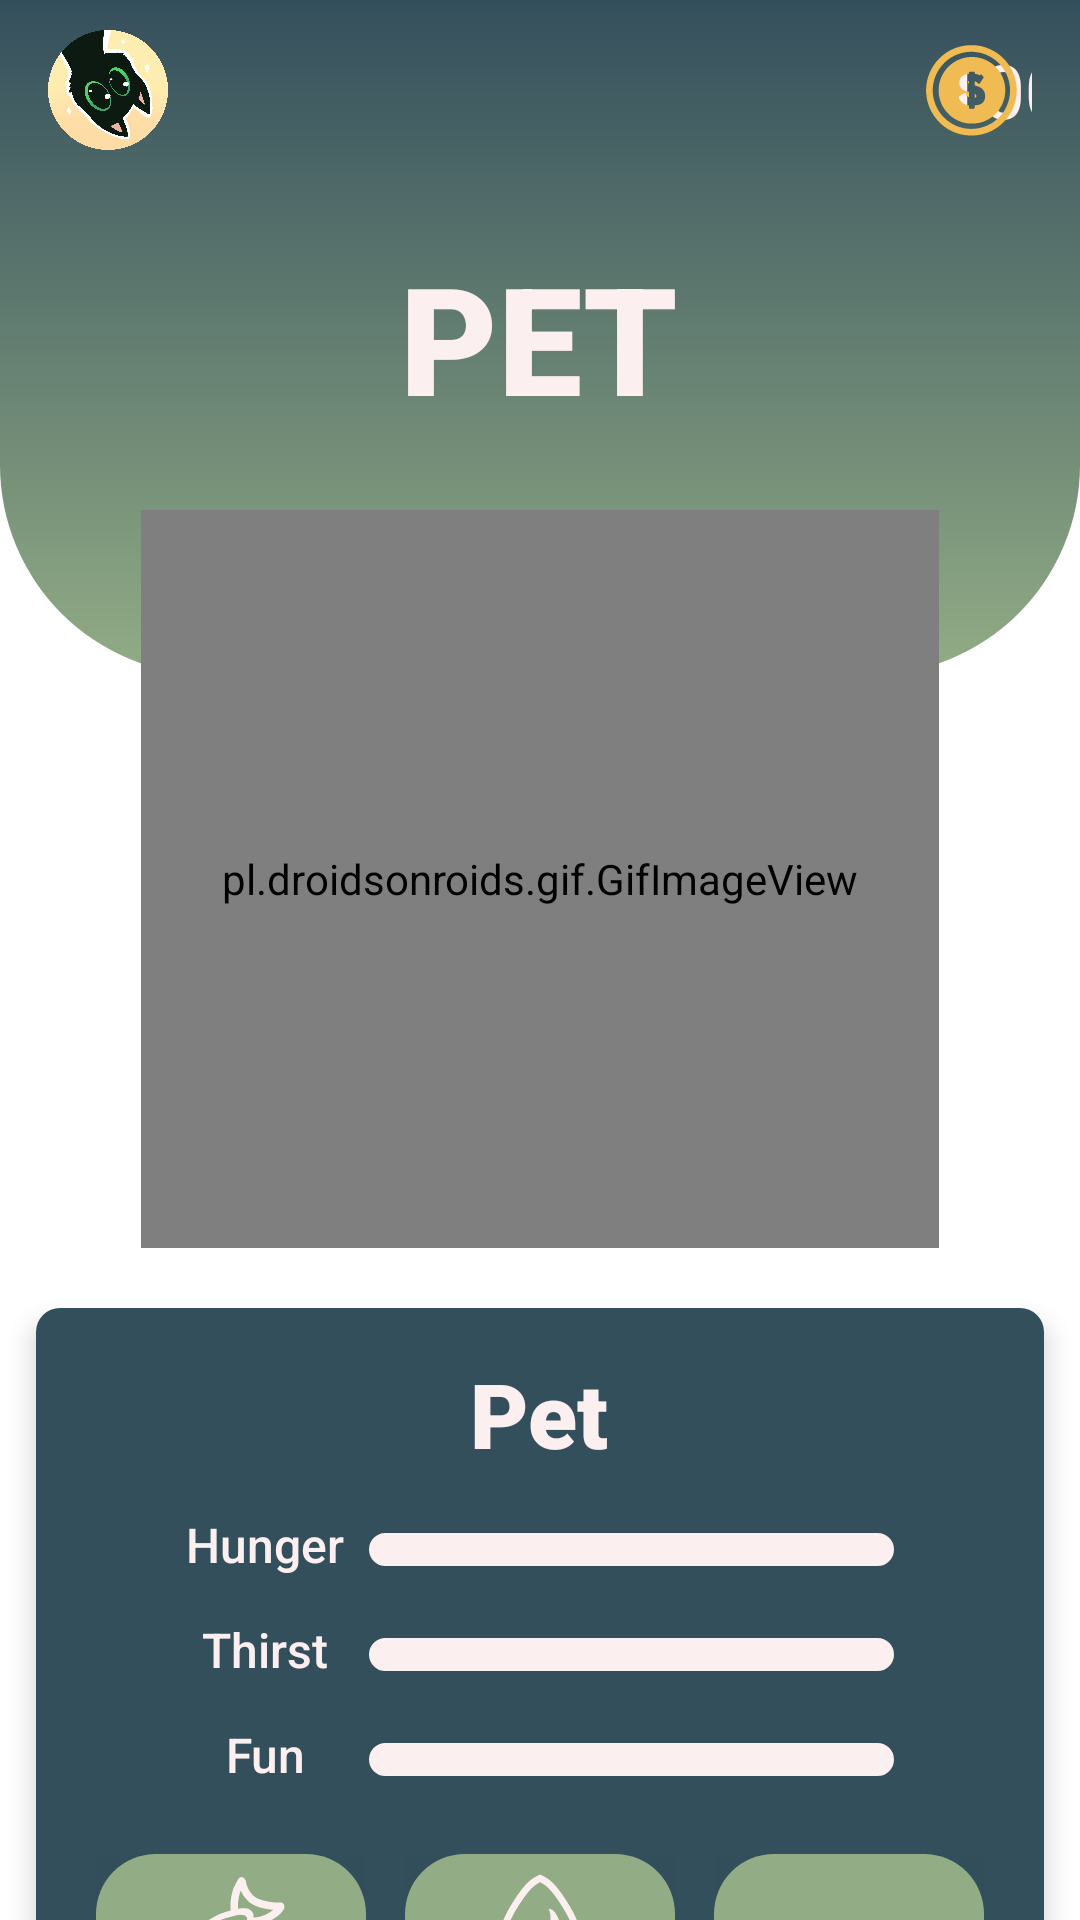

Icons on this 1080×1920 Android screen, each with its box as (x1, y1, x2, y2):
coin: (926, 45, 1032, 136)
